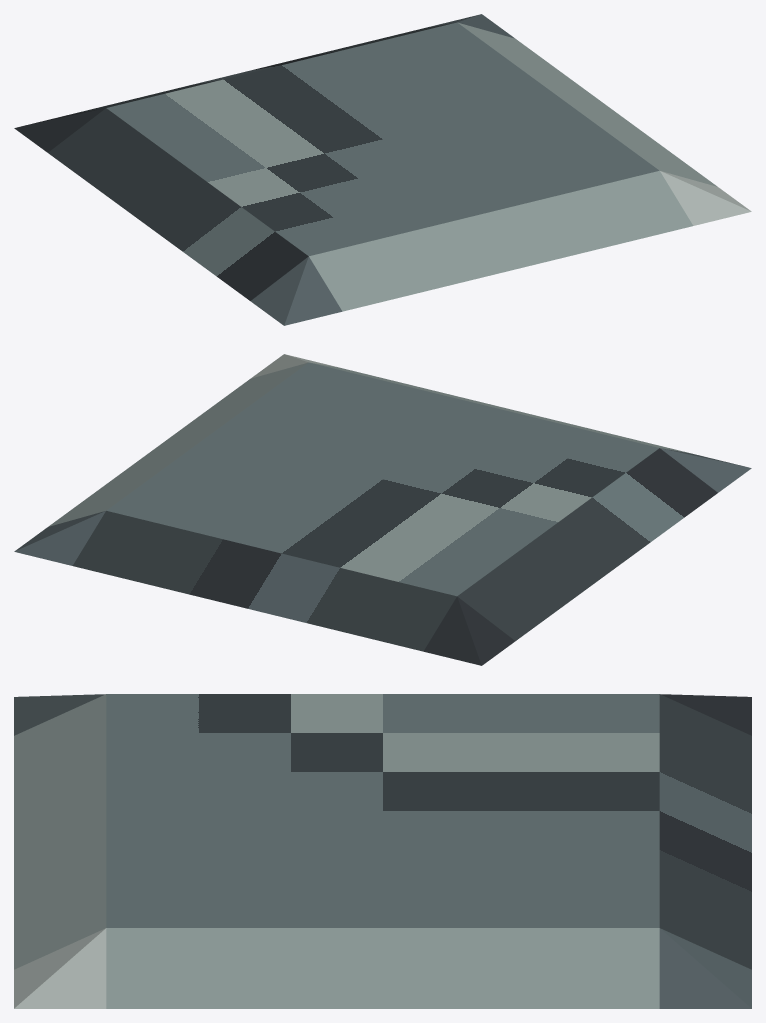
File: floor_1_d.gltf
The picture shows the model from 3 angles, top to bottom: view 1: azimuth 30°, elevation 25°; view 2: azimuth 150°, elevation 25°; view 3: azimuth 270°, elevation 25°; orthographic projection. The views are drawn at different scales.
Visible parts, largest first — view 1: floor_1_d; view 2: floor_1_d; view 3: floor_1_d.
Boxes of the visible parts, box(x1,y1,x2,y2) form: floor_1_d: box(14, 14, 751, 325); floor_1_d: box(14, 354, 751, 665); floor_1_d: box(14, 694, 751, 1008).
Size of the model in its own units: 1 by 0.0625 by 1.
